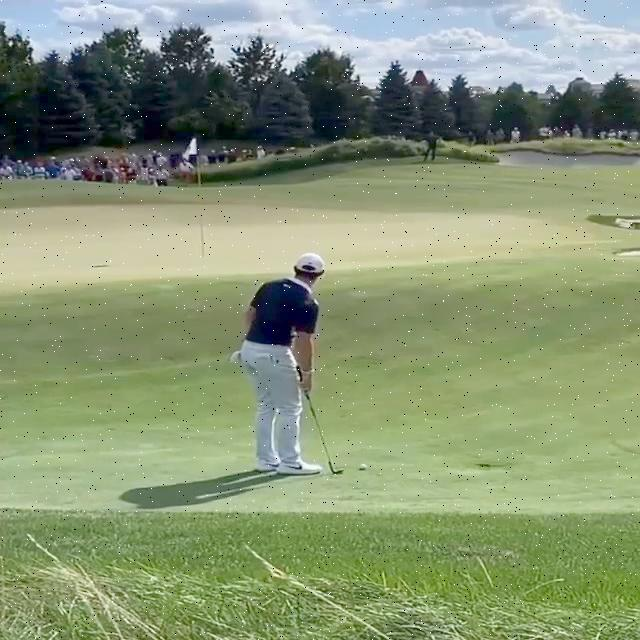golf ball: (360, 464, 367, 470)
golf club-handle: (296, 366, 343, 474)
golf club-head: (333, 468, 343, 474)
